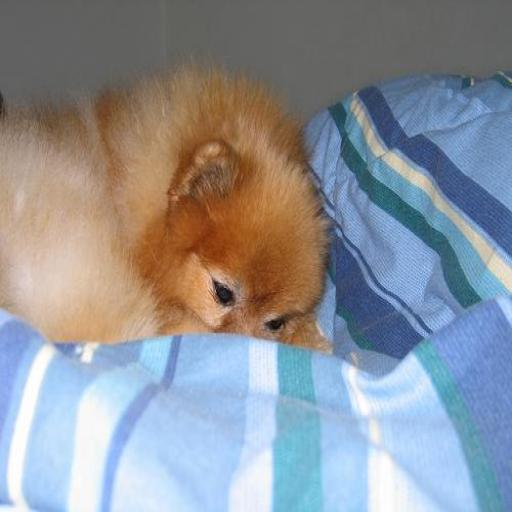dog_face: (174, 135, 318, 352)
